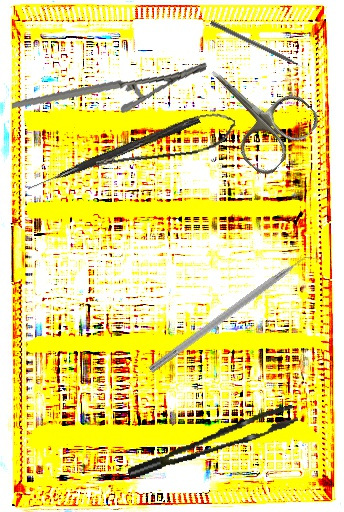Chopper: (147, 246, 325, 383)
Hook Surgical: (26, 113, 201, 195)
Iris Scissors: (184, 41, 324, 180)
Micro Scissor: (90, 108, 240, 172)
Needle Holder: (11, 35, 208, 135)
Pusher: (209, 20, 311, 74)
Tissue Forceps: (121, 404, 303, 479)
